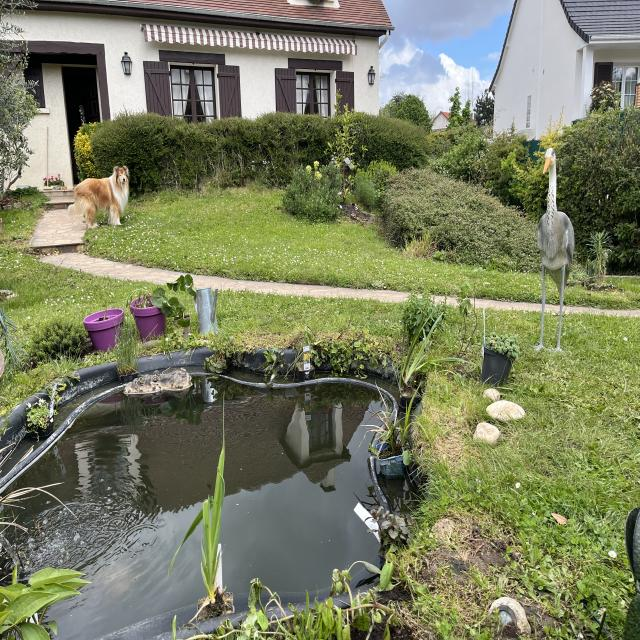Dog: (67, 155, 135, 238)
Heron: (529, 128, 584, 366)
